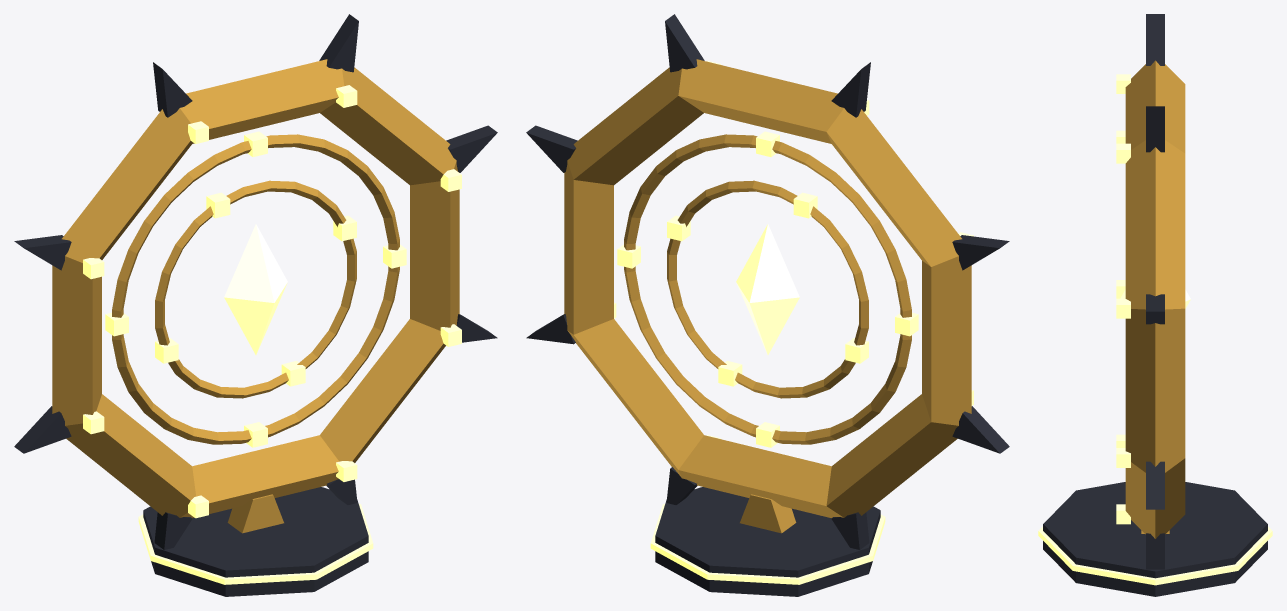
Rendered from vault-gate.glb.
The picture shows the model from 3 angles, left to right: view 1: azimuth 30°, elevation 25°; view 2: azimuth 150°, elevation 25°; view 3: azimuth 270°, elevation 25°; orthographic projection. The views are drawn at different scales.
Parts seen in each view (by area): view 1: GateFrame, LockRingOuter, LockRingInner, Crystal; view 2: GateFrame, LockRingOuter, LockRingInner, Crystal; view 3: GateFrame.
Boxes of the visible parts, bbox=[...] form: GateFrame: bbox=[14, 14, 497, 596]; LockRingOuter: bbox=[105, 131, 406, 447]; LockRingInner: bbox=[155, 180, 356, 398]; Crystal: bbox=[224, 224, 287, 354]; GateFrame: bbox=[526, 14, 1009, 596]; LockRingOuter: bbox=[617, 131, 918, 447]; LockRingInner: bbox=[667, 180, 868, 398]; Crystal: bbox=[736, 224, 799, 354]; GateFrame: bbox=[1038, 14, 1272, 596].
Bounding box in the file's own units: 5.64 × 5.77 × 2.5.
